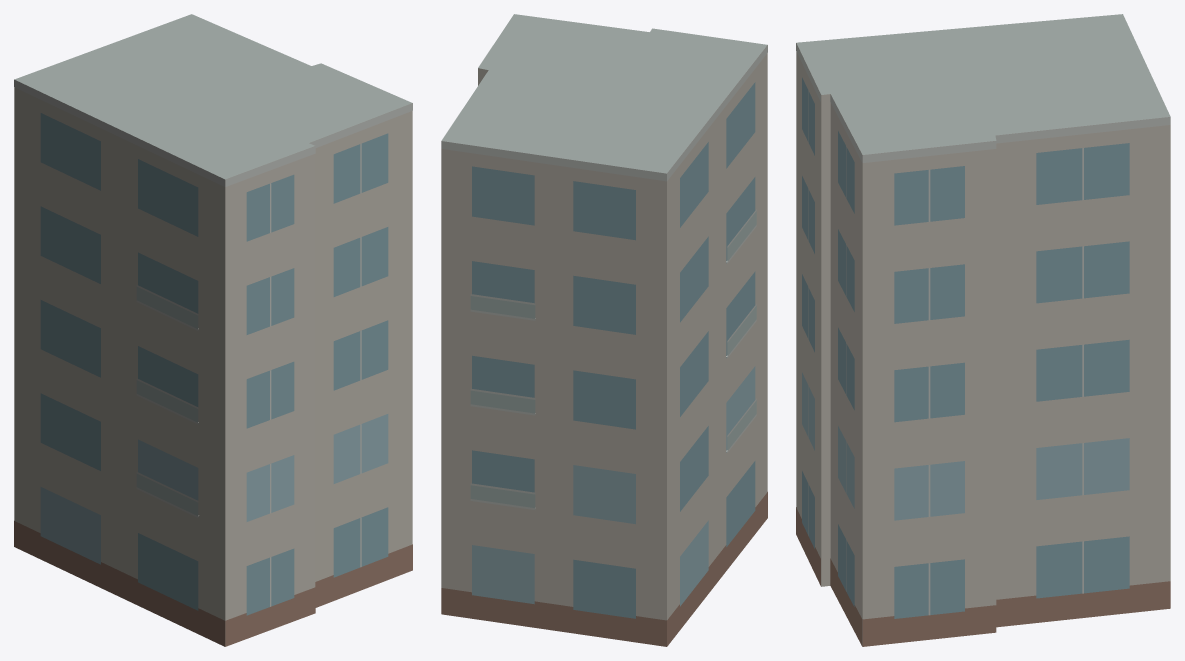
The model's file is survey-upis-32676826.glb.
The picture shows the model from 3 angles, left to right: view 1: azimuth 30°, elevation 25°; view 2: azimuth 150°, elevation 25°; view 3: azimuth 270°, elevation 25°; orthographic projection. The views are drawn at different scales.
Parts seen in each view (by area): view 1: survey-upis-32676826.tmp; view 2: survey-upis-32676826.tmp; view 3: survey-upis-32676826.tmp.
Part boxes in pixels (x1,y1,x2,y2): survey-upis-32676826.tmp: (14, 14, 412, 646); survey-upis-32676826.tmp: (441, 14, 767, 646); survey-upis-32676826.tmp: (796, 14, 1170, 646).
Bounding box in the file's own units: 9.11 × 14.8 × 10.22.
